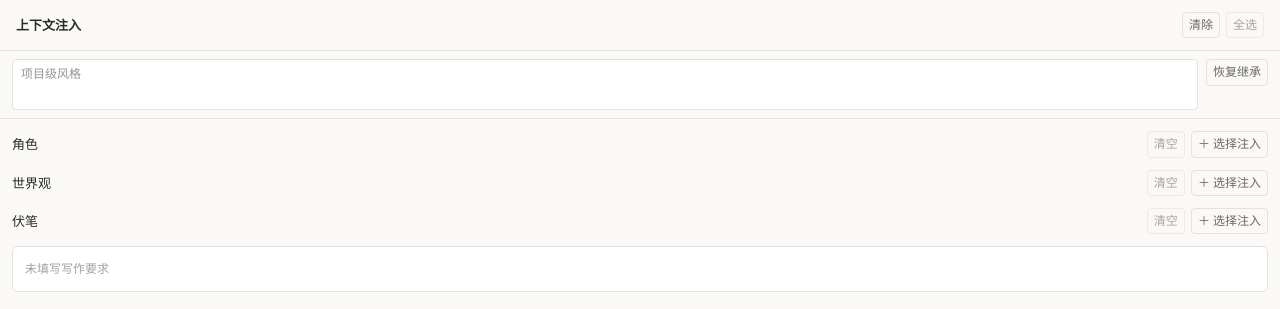
Test: ContextPanel — #1017 入口常驻（写作要求为空不没收选择钮） › 写作要求为空时点选择钮 → 弹层仍可打开且选项来自 list API（不依赖 assemble）
This screenshot has width=1280, height=309.
Click the button with test id "context-pick-character_setting".
click(1229, 144)  # box top-left (1191, 131), bottom-right (1268, 158)
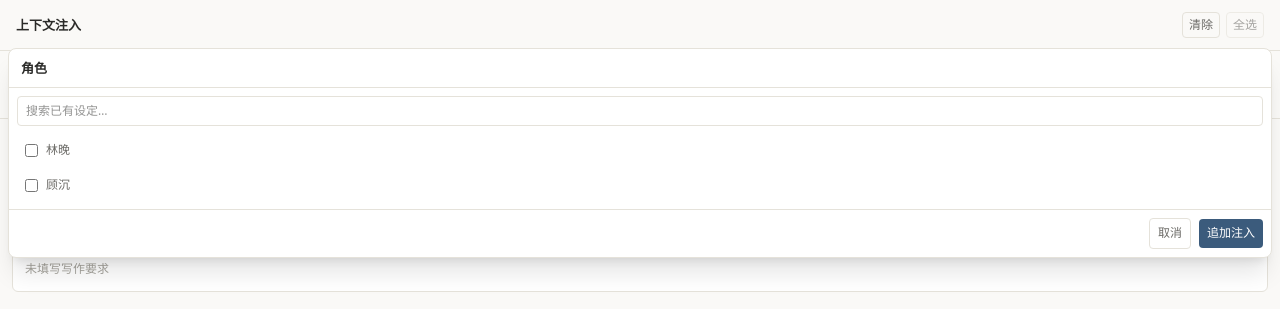
Now the element with test id "context-picker" is shown
